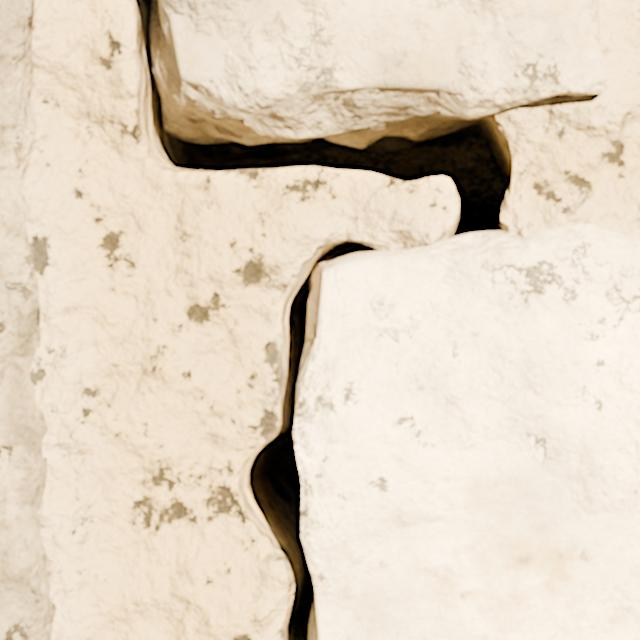crack: (121, 0, 639, 639), (0, 0, 56, 639)
